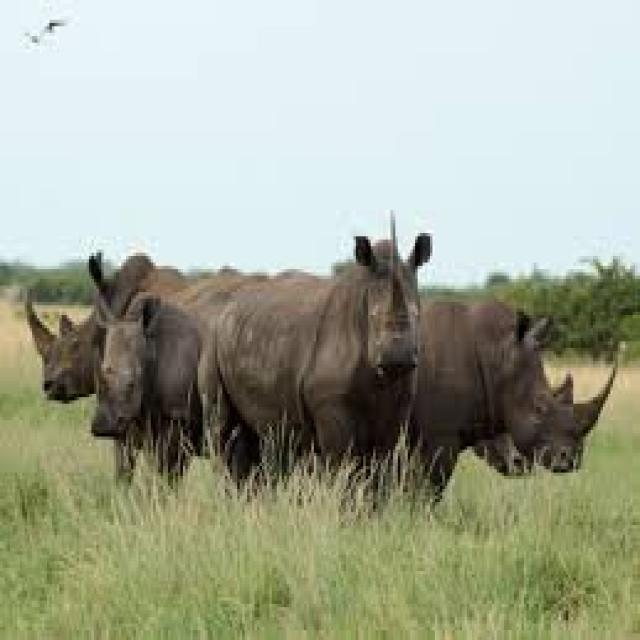Rinoceros: (205, 222, 434, 493), (416, 294, 620, 493)
